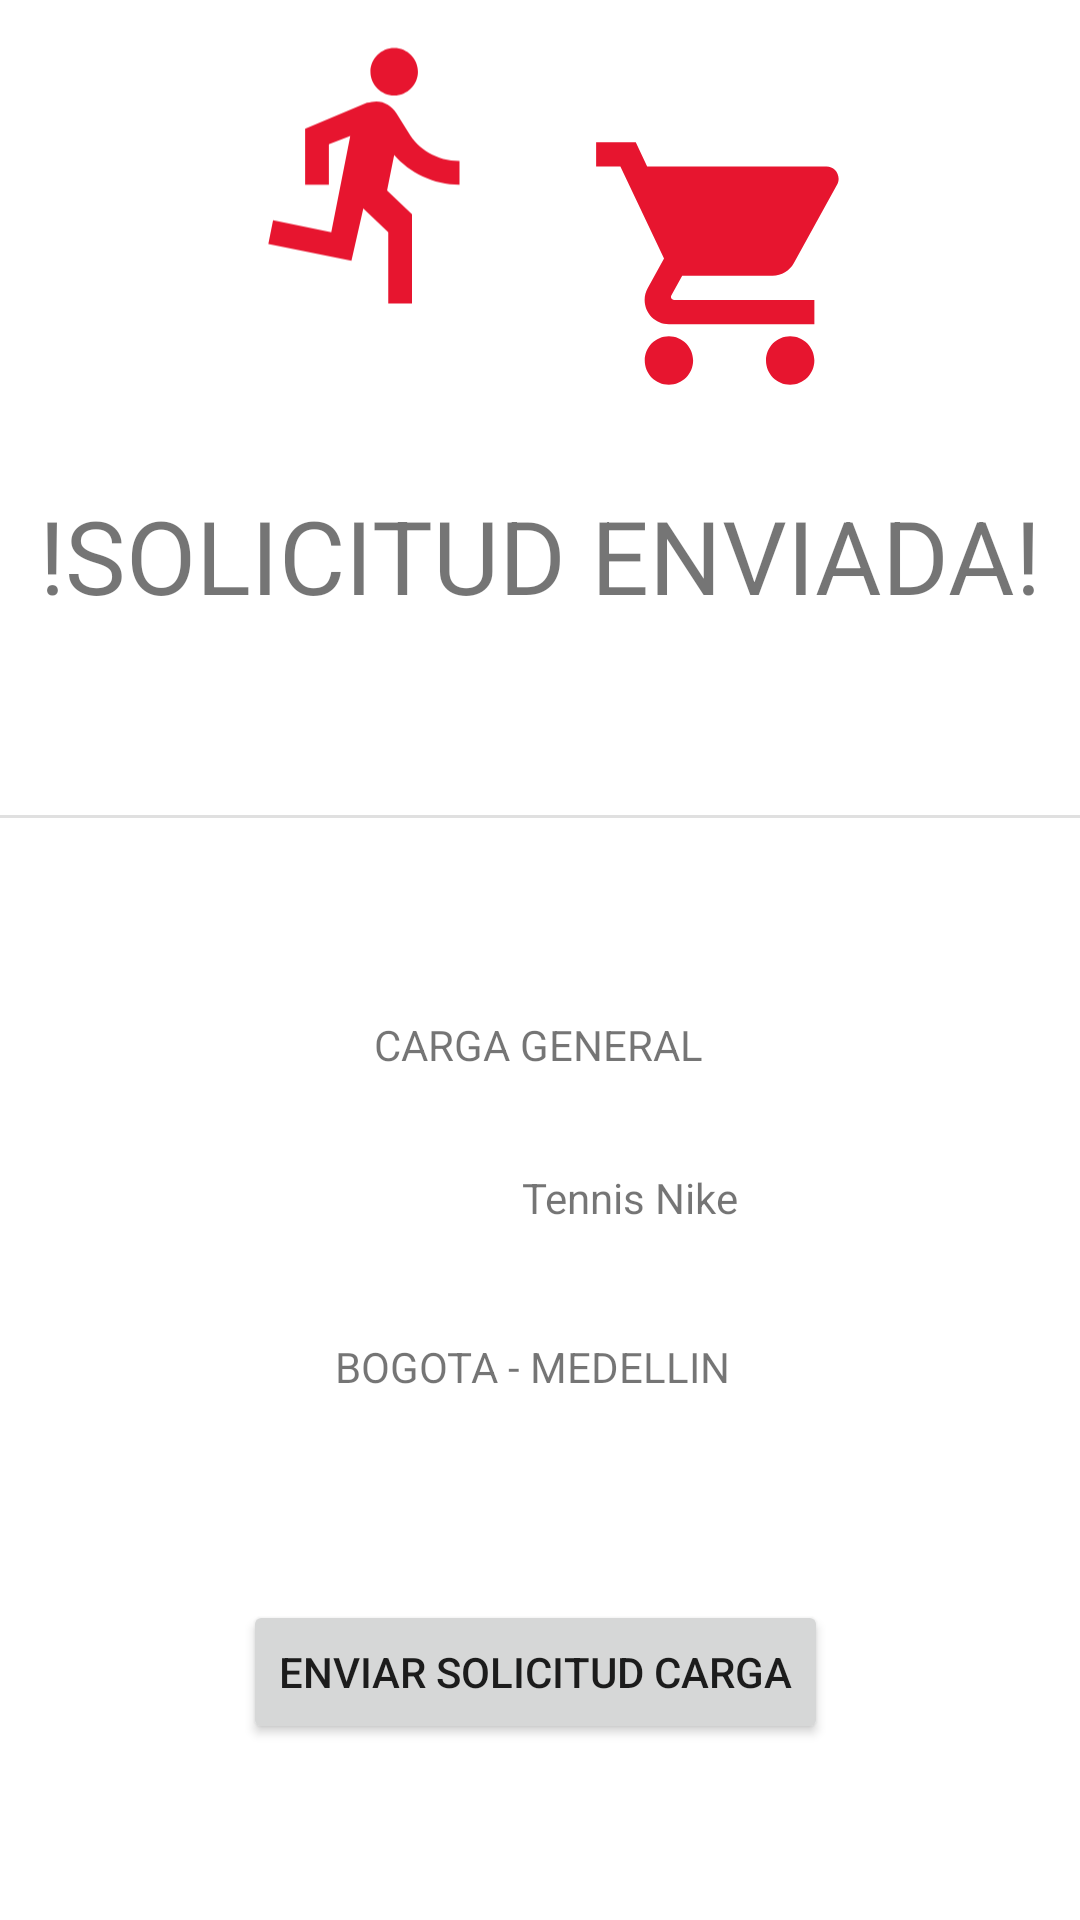

Screen size 1080×1920. Icon name, then its center in pixels as (x,y):
run: (364,175)
